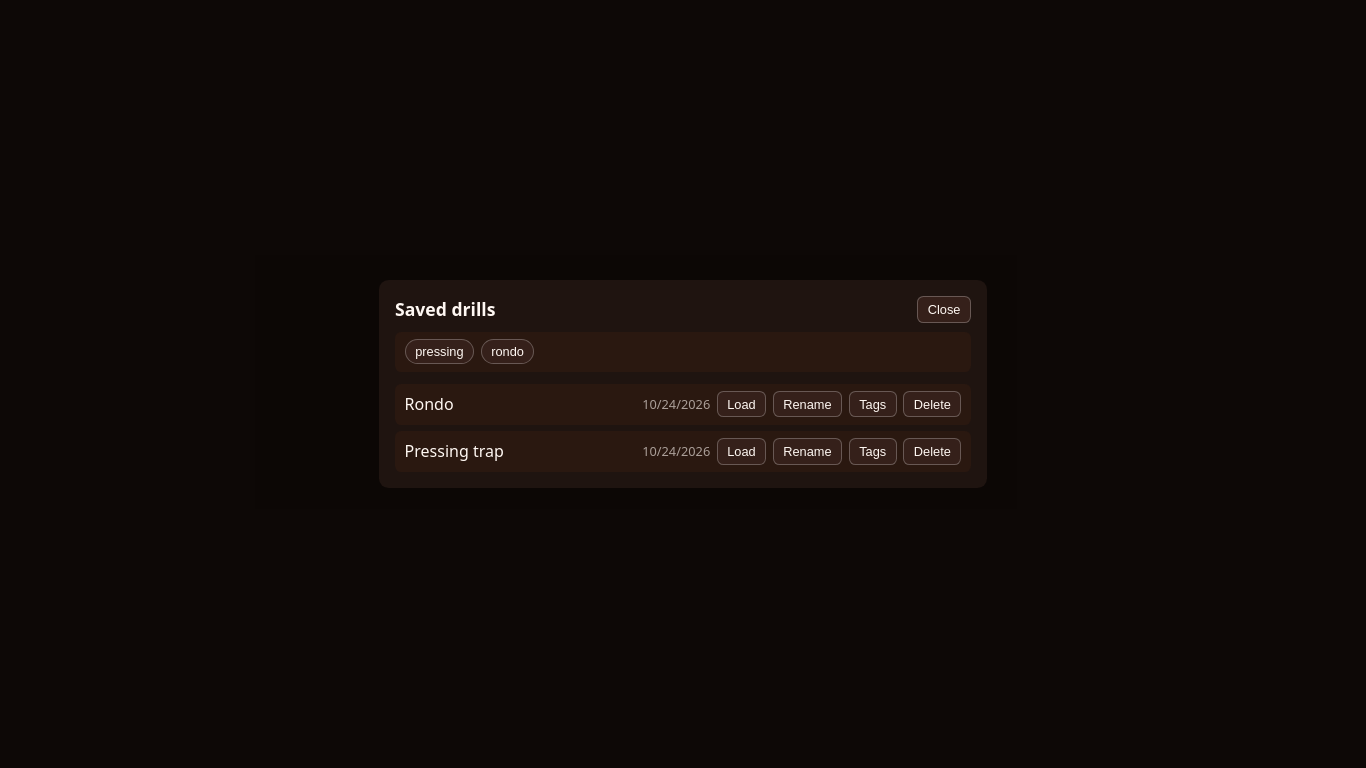
Test: tags › shows nothing, with its own message, when two chosen tags never land on the same drill
The image size is (1366, 768).
Click the button "rondo" at point(507, 352), box [480,339,534,364]
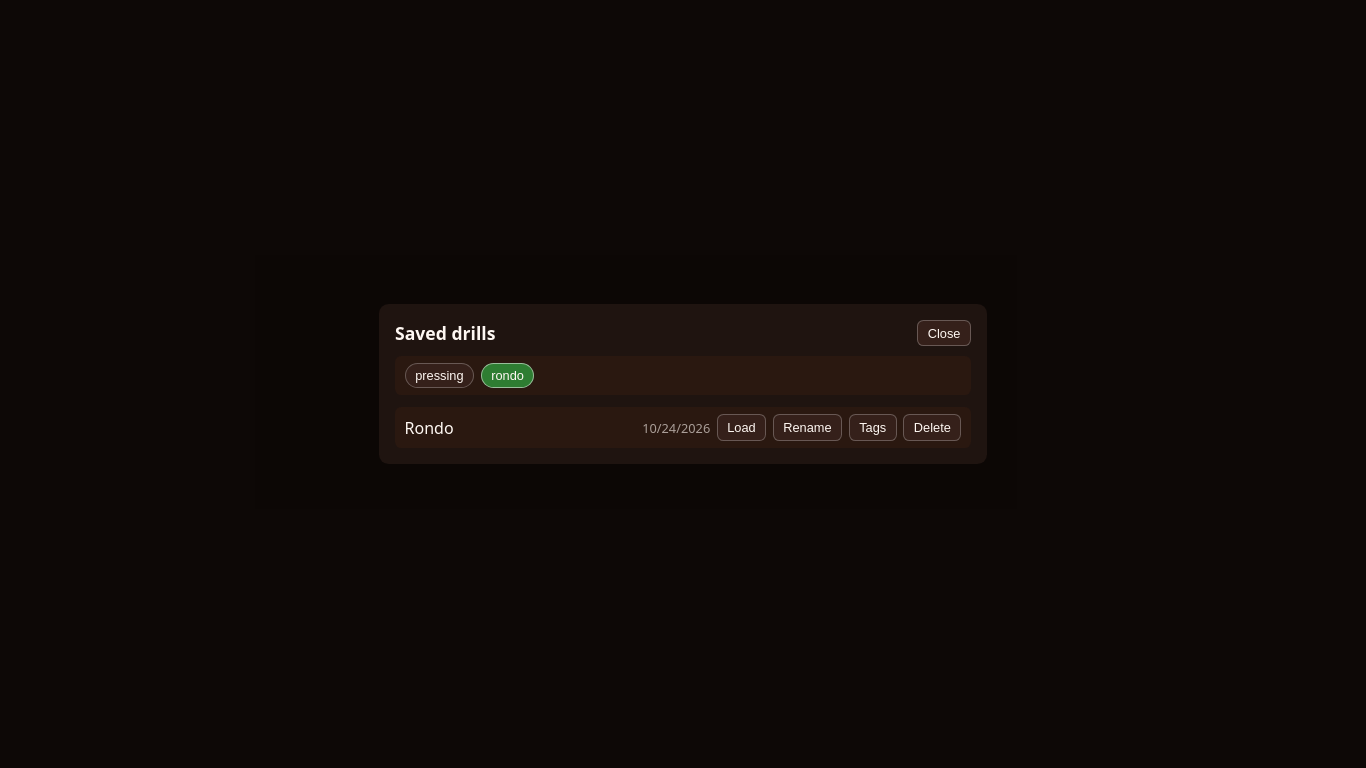
Click the button "pressing" at point(439, 376), box [405,363,474,388]
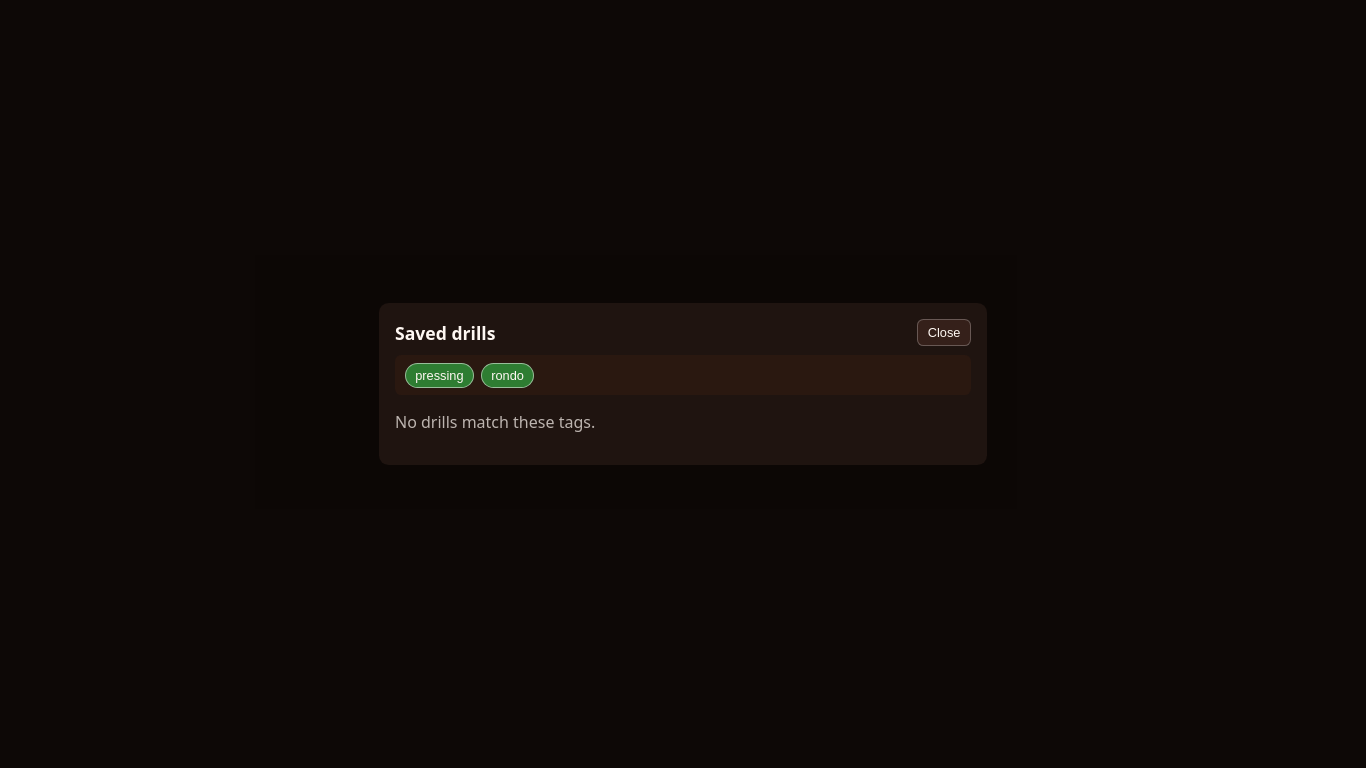
Check: the text "No drills match these tags." is shown, box [395,411,595,433]
